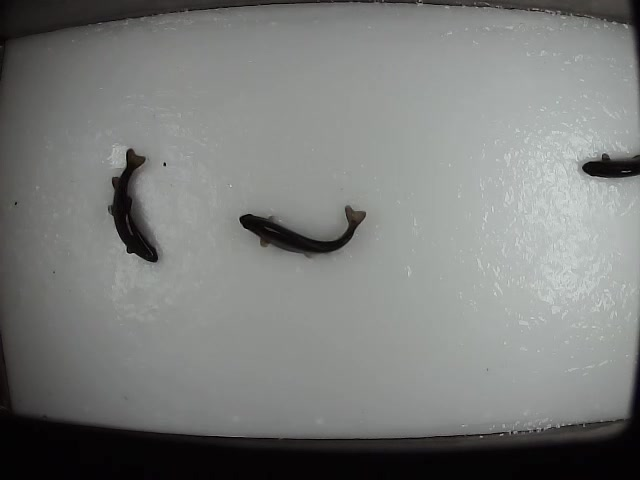fish: (230, 194, 371, 285), (107, 146, 161, 265)
